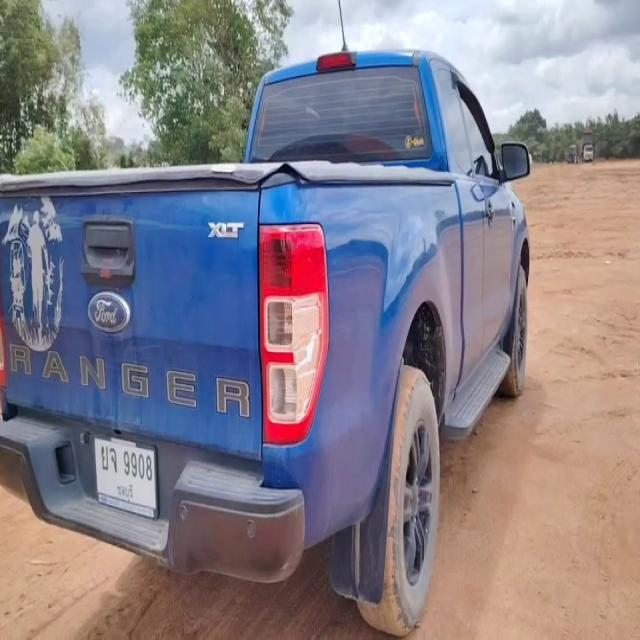Digit: (123, 449, 151, 484)
Licenseplate: (92, 433, 161, 521)
Provincename: (115, 480, 136, 504)
Thaichar: (101, 443, 117, 475)
